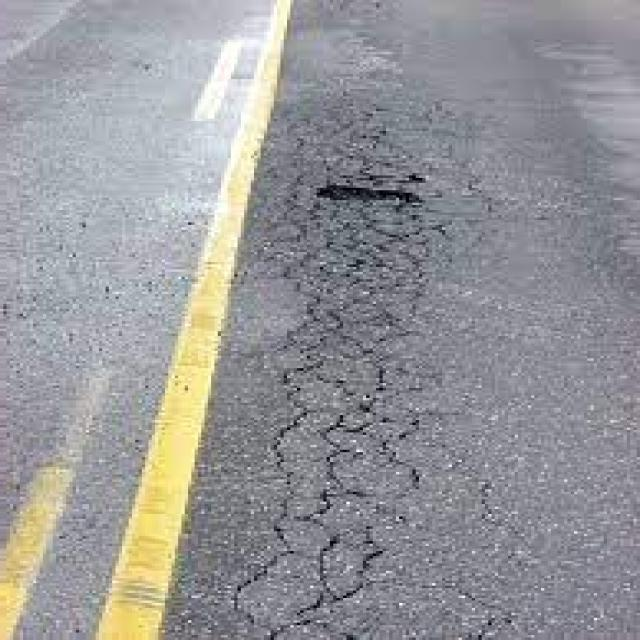Pothole: (316, 184, 422, 203)
